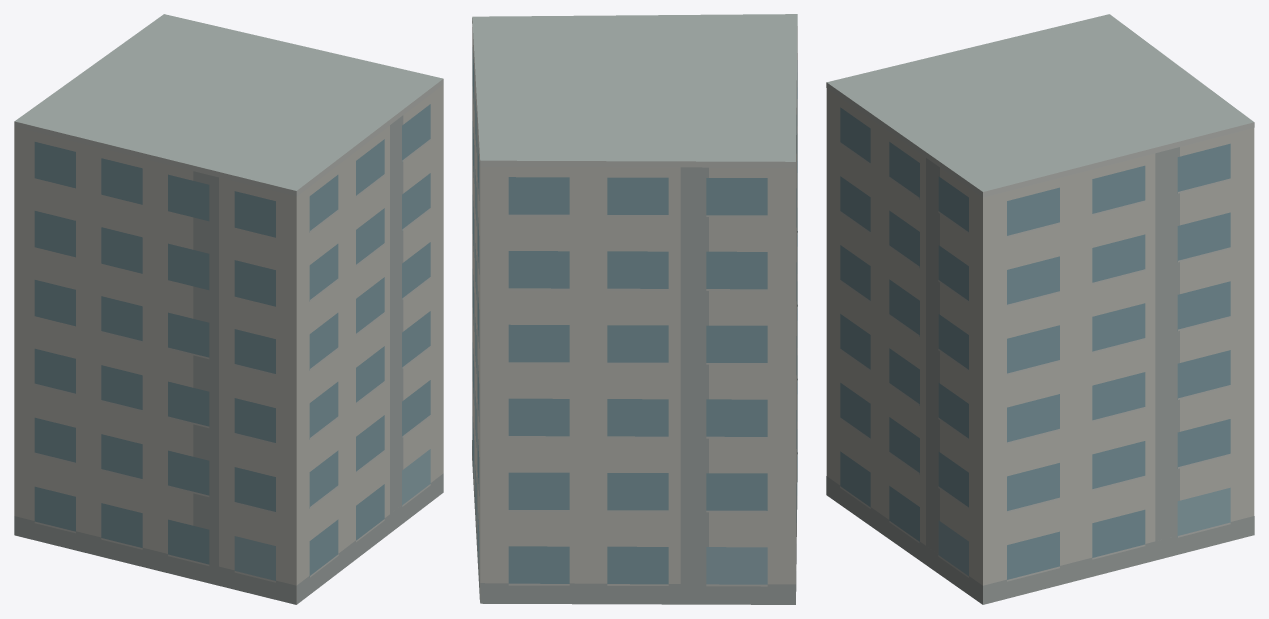
File: survey-upis-32767715.glb
The picture shows the model from 3 angles, left to right: view 1: azimuth 30°, elevation 25°; view 2: azimuth 150°, elevation 25°; view 3: azimuth 270°, elevation 25°; orthographic projection. The views are drawn at different scales.
Visible parts, largest first — view 1: survey-upis-32767715.tmp; view 2: survey-upis-32767715.tmp; view 3: survey-upis-32767715.tmp.
Part boxes in pixels (left/top/right/bottom): survey-upis-32767715.tmp: left=14, top=14, right=443, bottom=604; survey-upis-32767715.tmp: left=472, top=14, right=797, bottom=604; survey-upis-32767715.tmp: left=826, top=14, right=1254, bottom=604.
Bounding box in the file's own units: 16.66 × 18 × 16.92.
